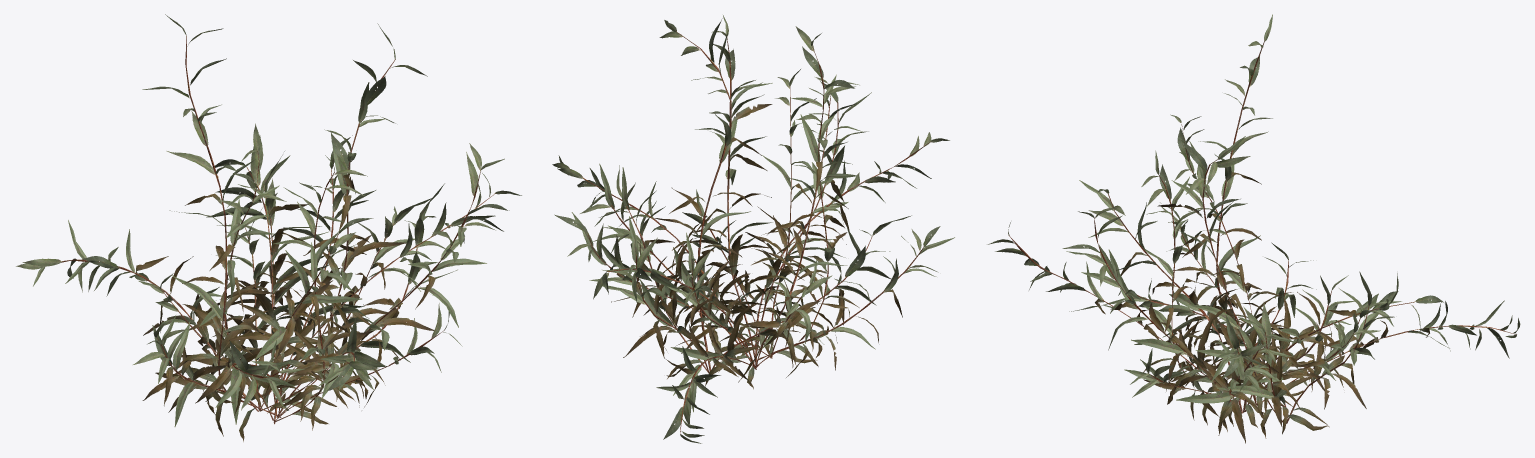
The model's file is shrub_02_LOD1.fbx.
3 views of the same model, side by side, from view 1: azimuth 30°, elevation 25°; view 2: azimuth 150°, elevation 25°; view 3: azimuth 270°, elevation 25° (orthographic). The views are drawn at different scales.
Visible parts, largest first — view 1: shrub_02_a.002, shrub_02_c.002, shrub_02_b.002, shrub_02_d.002; view 2: shrub_02_c.002, shrub_02_a.002, shrub_02_b.002, shrub_02_d.002; view 3: shrub_02_a.002, shrub_02_b.002, shrub_02_c.002, shrub_02_d.002.
Boxes of the visible parts, x1,y1,x2,y2 form: shrub_02_a.002: [142, 14, 509, 441]; shrub_02_c.002: [16, 123, 521, 436]; shrub_02_b.002: [181, 23, 433, 424]; shrub_02_d.002: [138, 135, 462, 430]; shrub_02_c.002: [552, 77, 954, 443]; shrub_02_a.002: [580, 15, 871, 363]; shrub_02_b.002: [596, 18, 911, 382]; shrub_02_d.002: [554, 69, 834, 365]; shrub_02_a.002: [1062, 14, 1443, 443]; shrub_02_b.002: [1103, 136, 1401, 438]; shrub_02_c.002: [987, 114, 1520, 426]; shrub_02_d.002: [1124, 150, 1380, 425].
Size of the model in its own units: 1.77 by 1.69 by 2.29.
1 material, 1 textured.
